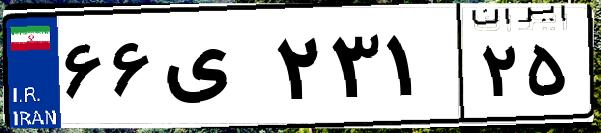1: (385, 28, 445, 110)
2: (270, 28, 330, 110), (475, 38, 525, 113)
3: (330, 28, 385, 110)
5: (525, 38, 570, 115)
6: (57, 26, 110, 100), (110, 28, 158, 98)
ی: (158, 20, 270, 120)
